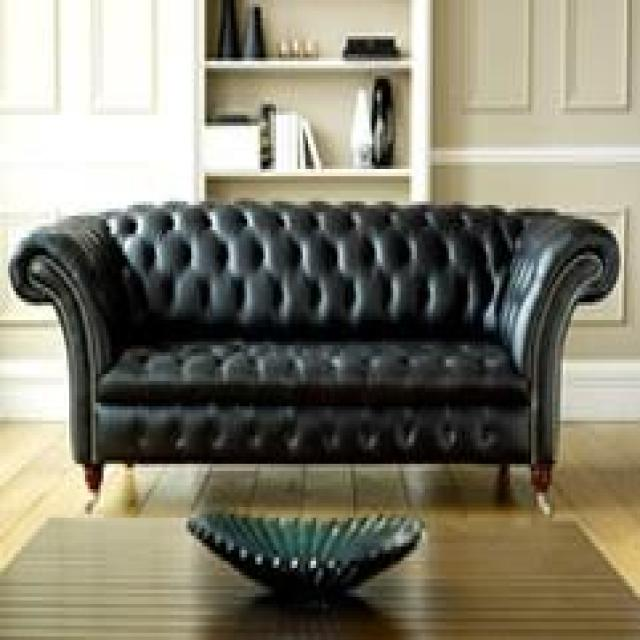sofa: (8, 194, 619, 514)
